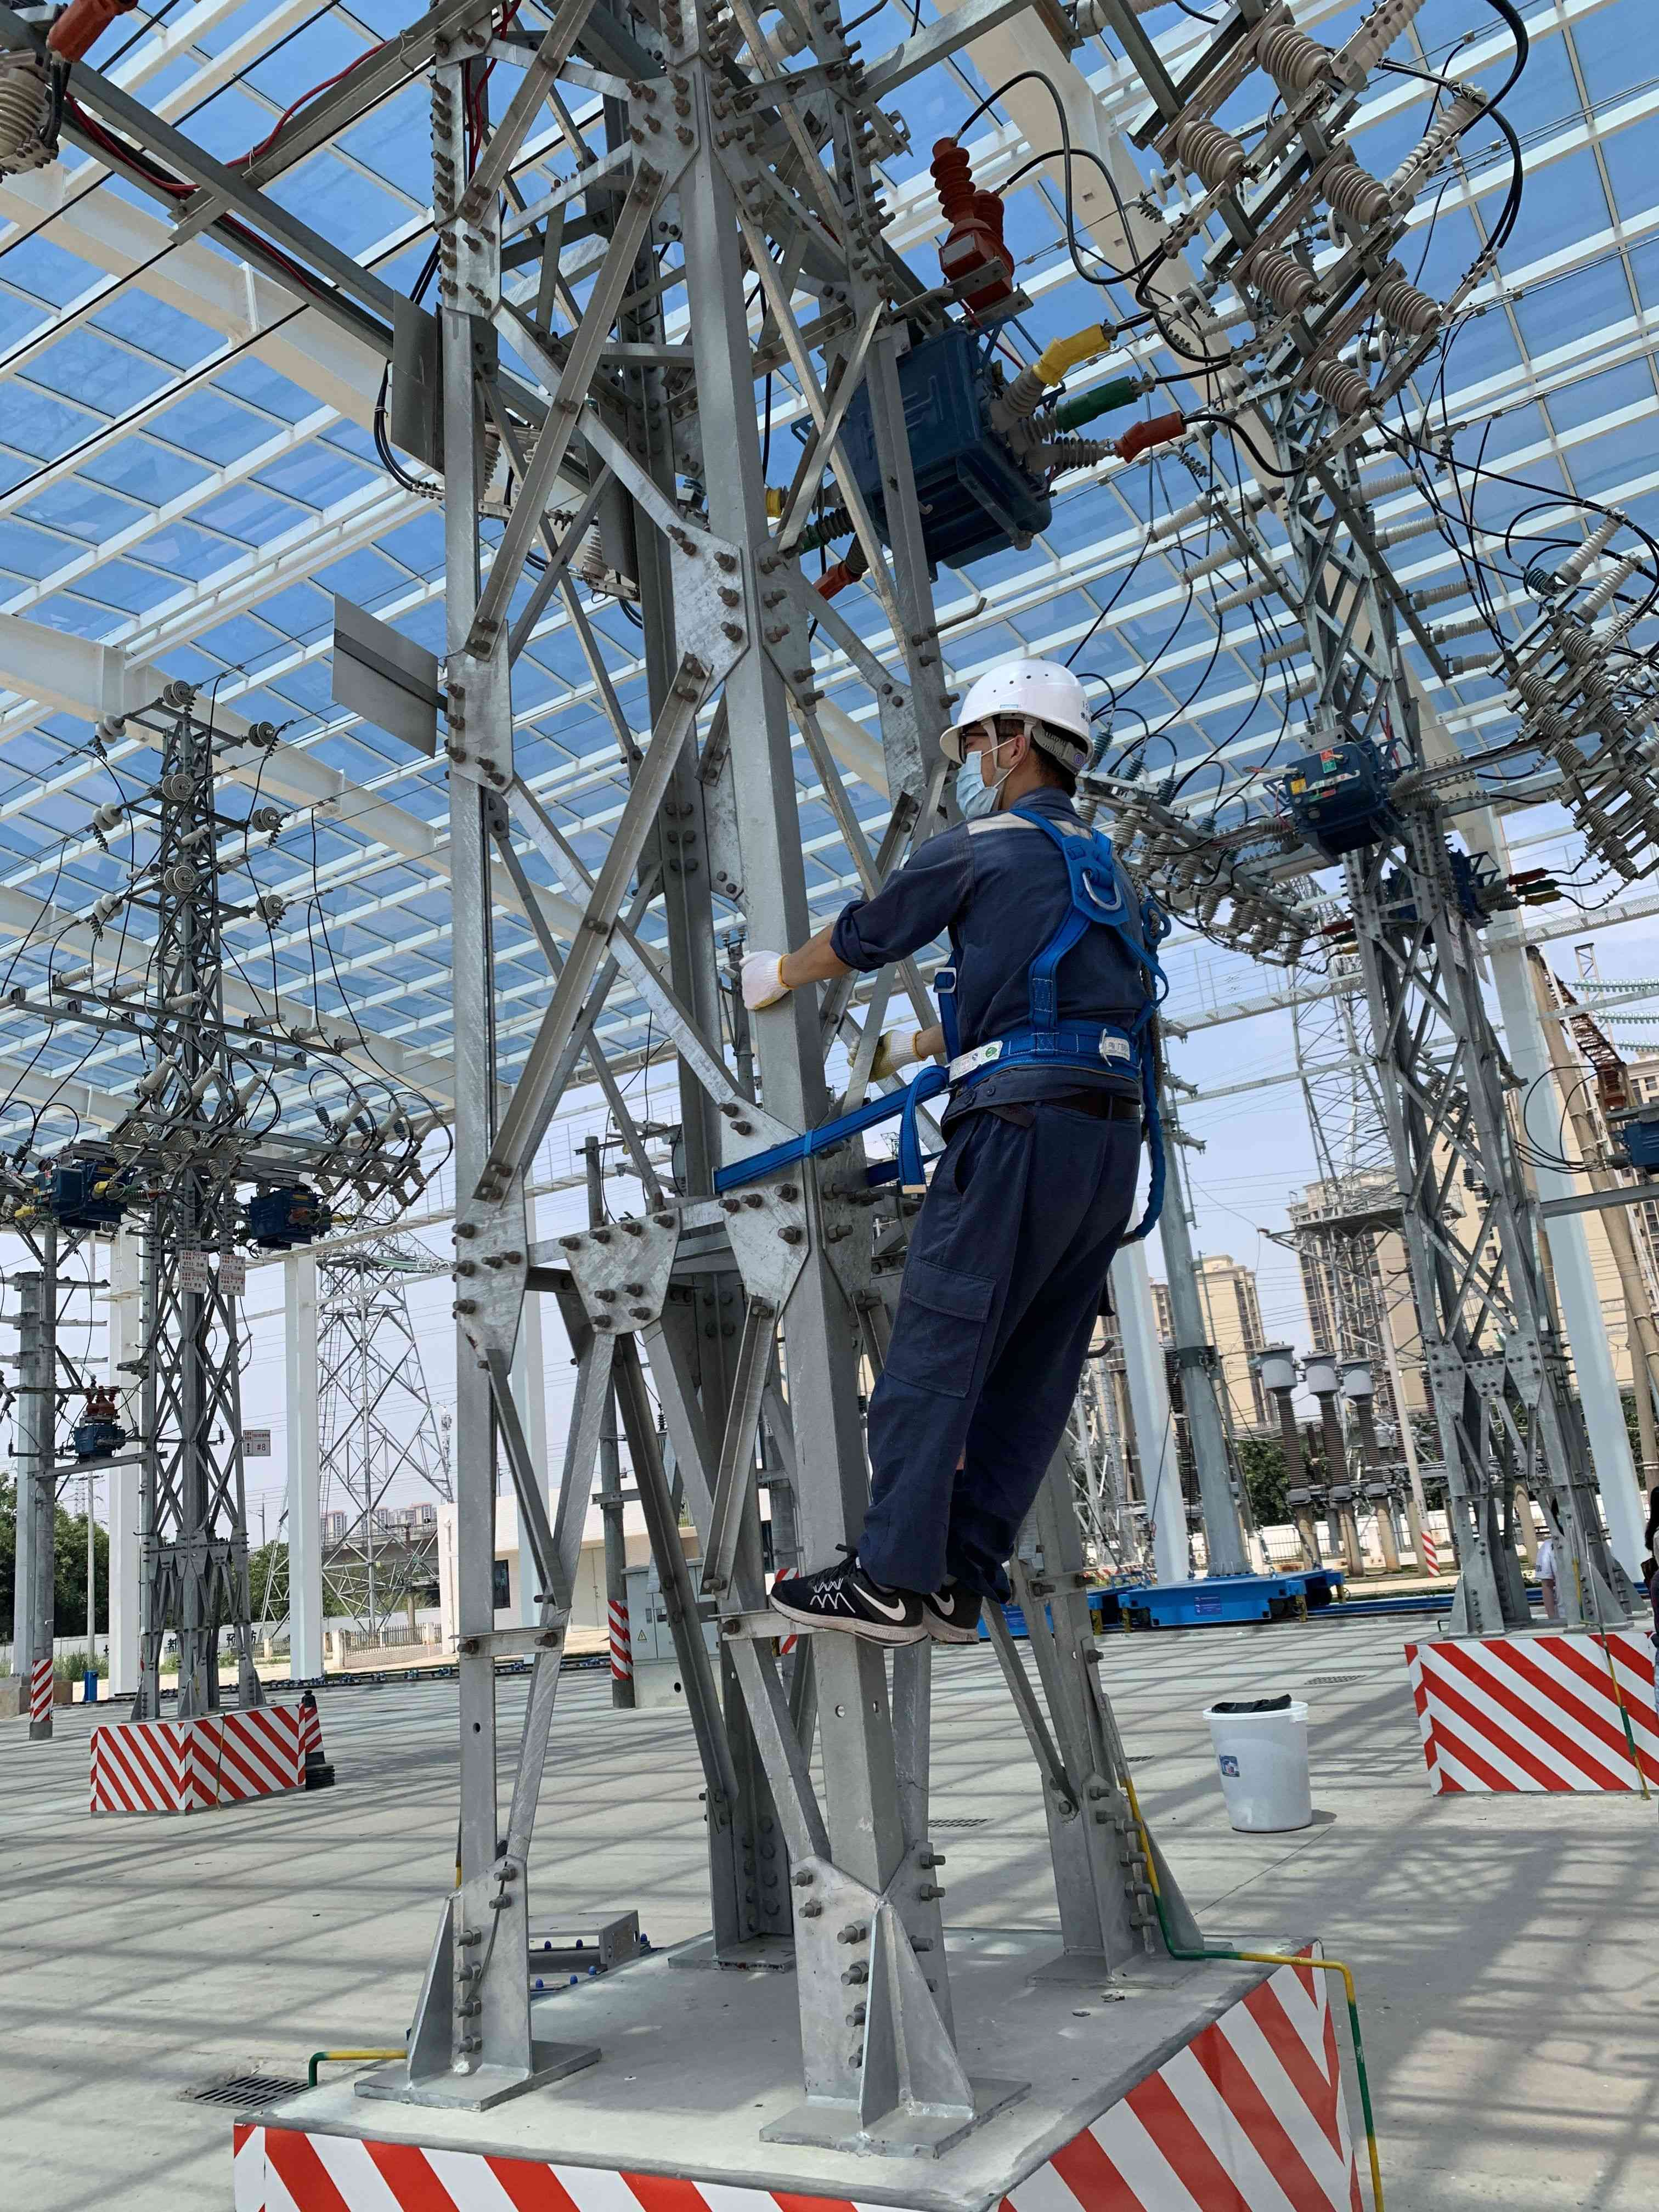downsuit: (854, 1123, 1148, 1581)
upsuit: (835, 806, 1162, 1092)
wrongtop: (763, 913, 884, 995)
